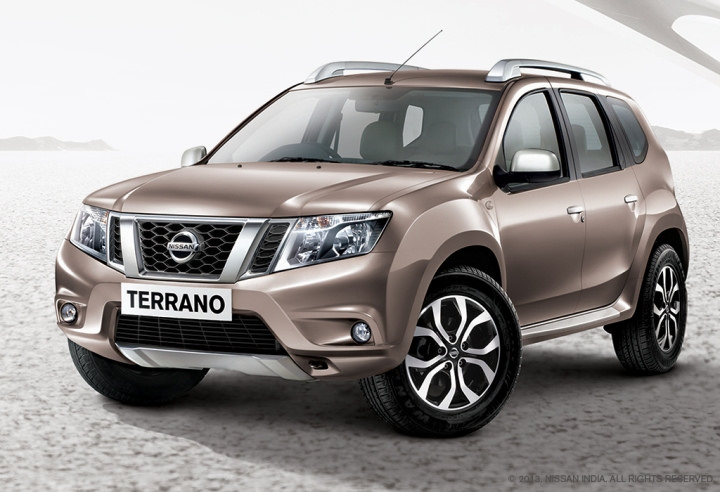number_plate: (115, 275, 238, 322)
